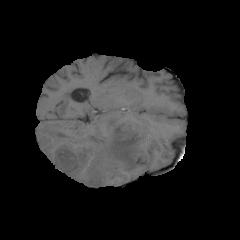glioma: (41, 113, 143, 186)
